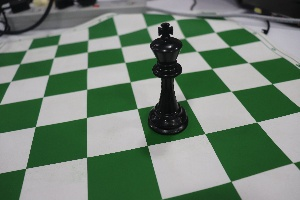black_king: (138, 14, 192, 141)
